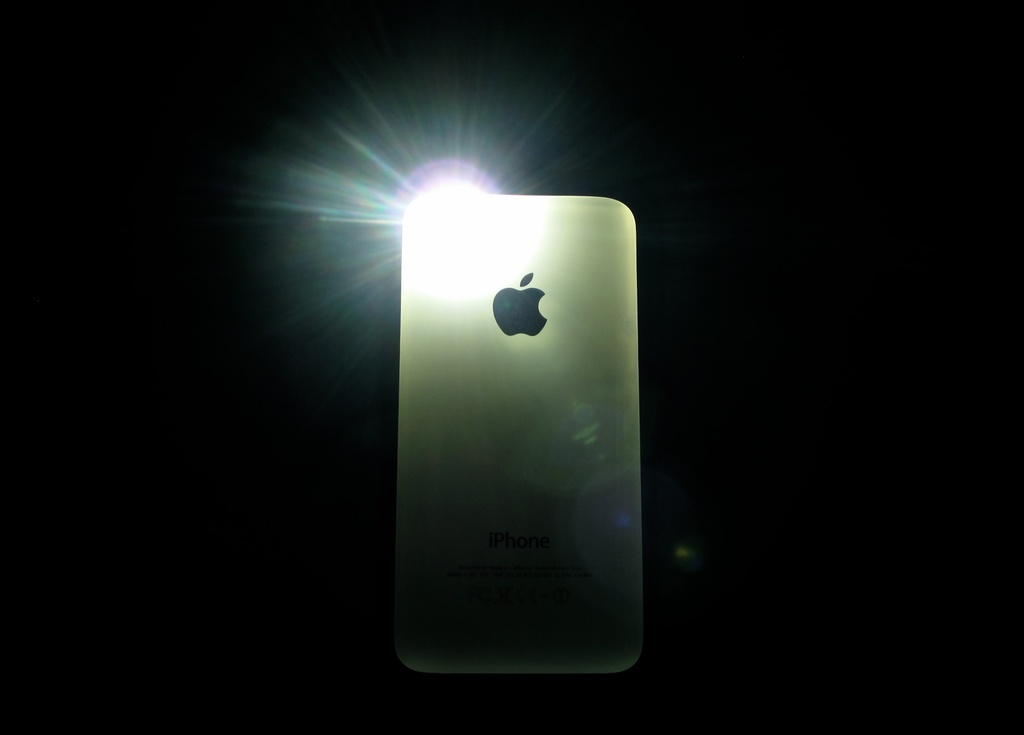Mobile-phone: (394, 191, 648, 682)
